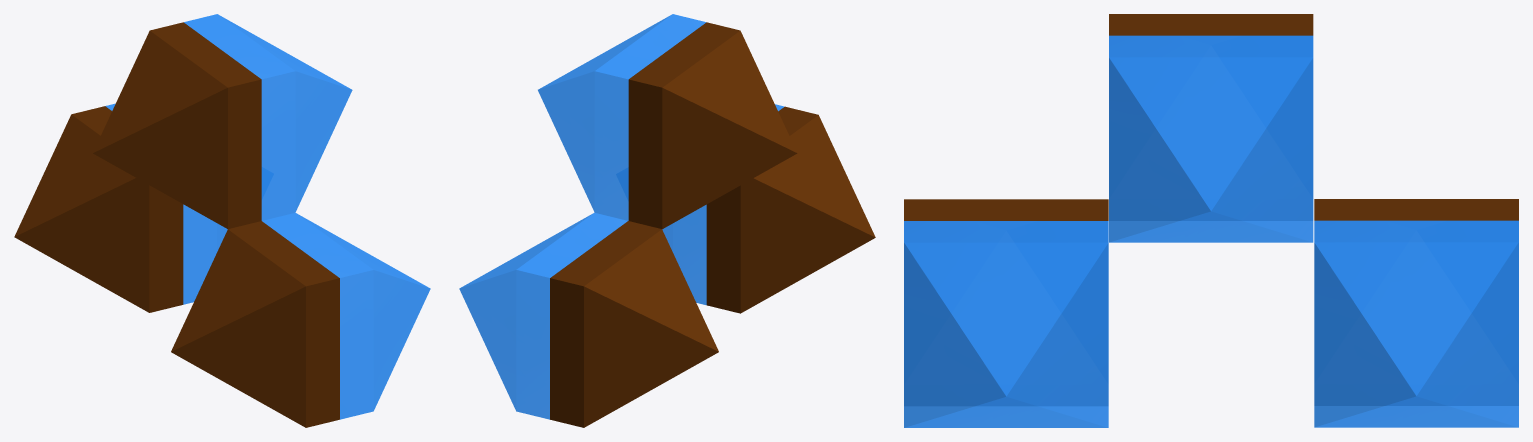
Rendered from random.glb.
The picture shows the model from 3 angles, left to right: view 1: azimuth 30°, elevation 25°; view 2: azimuth 150°, elevation 25°; view 3: azimuth 270°, elevation 25°; orthographic projection. The views are drawn at different scales.
Parts seen in each view (by area): view 1: random; view 2: random; view 3: random.
Boxes of the visible parts, x1,y1,x2,y2 form: random: [14, 14, 430, 427]; random: [459, 14, 875, 427]; random: [904, 14, 1518, 427].
Size of what is drawn, in the model's own units: 0.0854 by 0.0888 by 0.1335.
Materials: 2 (2 with a texture image).
